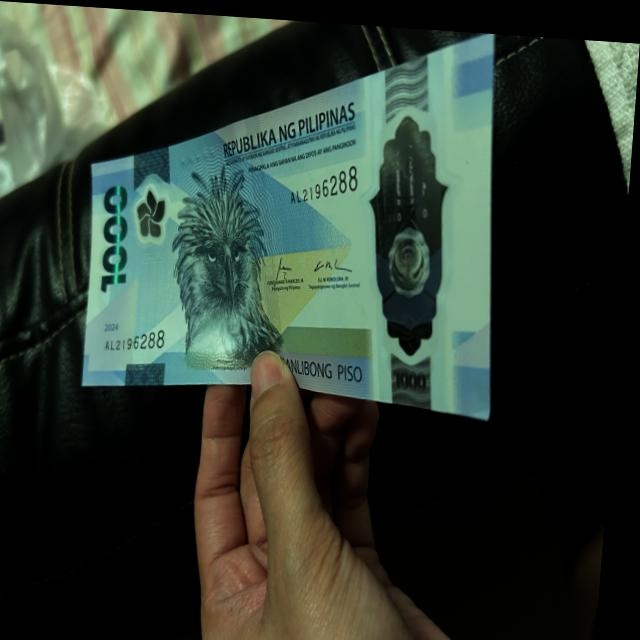clear_window: (368, 60, 470, 376)
eagle: (176, 164, 276, 373)
sampaguita: (136, 188, 170, 239)
